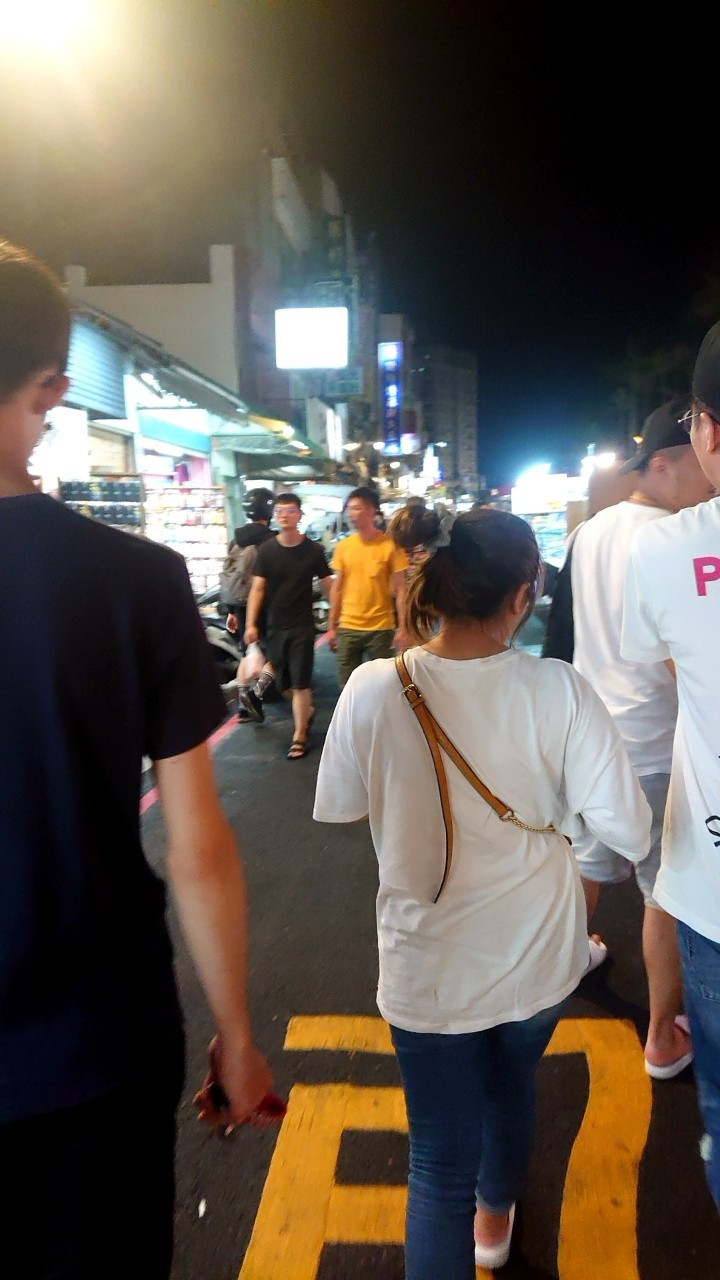people: (1, 249, 183, 1272), (346, 510, 563, 1276), (585, 404, 685, 1092), (665, 314, 720, 1210), (258, 494, 318, 755), (336, 492, 397, 696), (230, 490, 273, 672)
